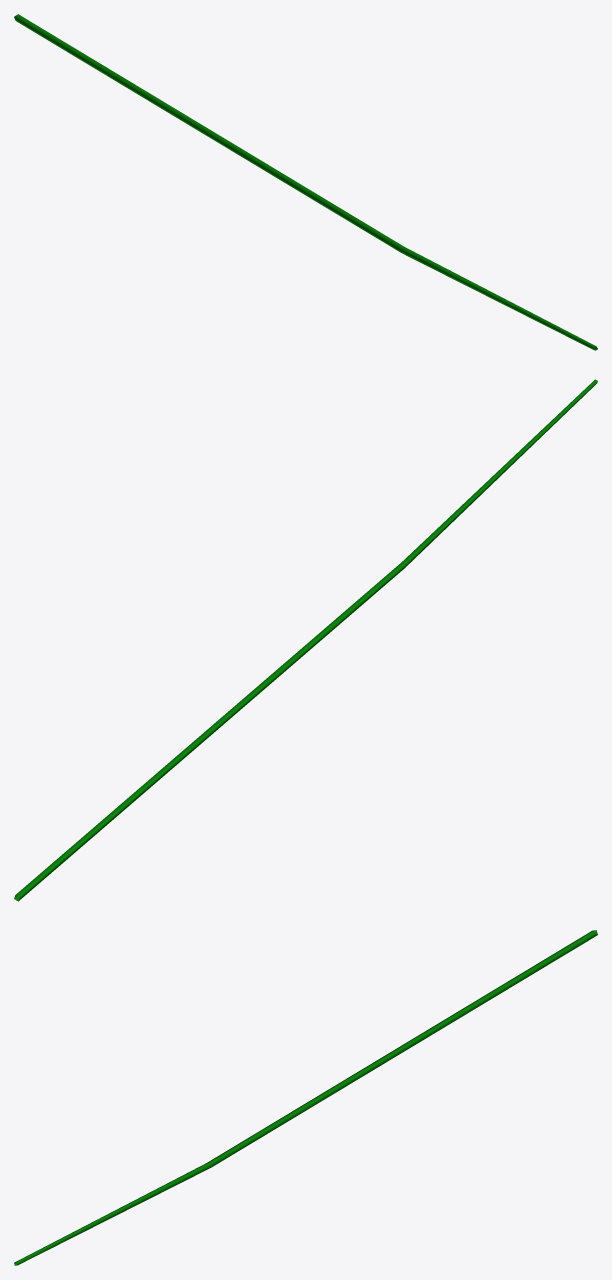
Rendered from stem.dae.
3 views of the same model, one above another, from view 1: azimuth 30°, elevation 25°; view 2: azimuth 150°, elevation 25°; view 3: azimuth 330°, elevation 25° (orthographic).
Parts seen in each view (by area): view 1: mesh0%root%0%; view 2: mesh0%root%0%; view 3: mesh0%root%0%.
Boxes of the visible parts, bbox=[...] form: mesh0%root%0%: bbox=[14, 14, 597, 350]; mesh0%root%0%: bbox=[14, 379, 597, 901]; mesh0%root%0%: bbox=[14, 930, 597, 1265].
Size of the model in its own units: 0.1728 by 2.78 by 29.94.
